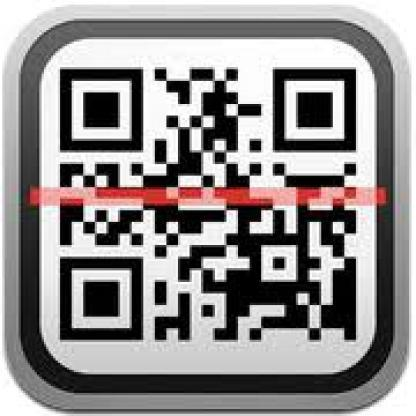qr_code: (58, 68, 358, 342)
